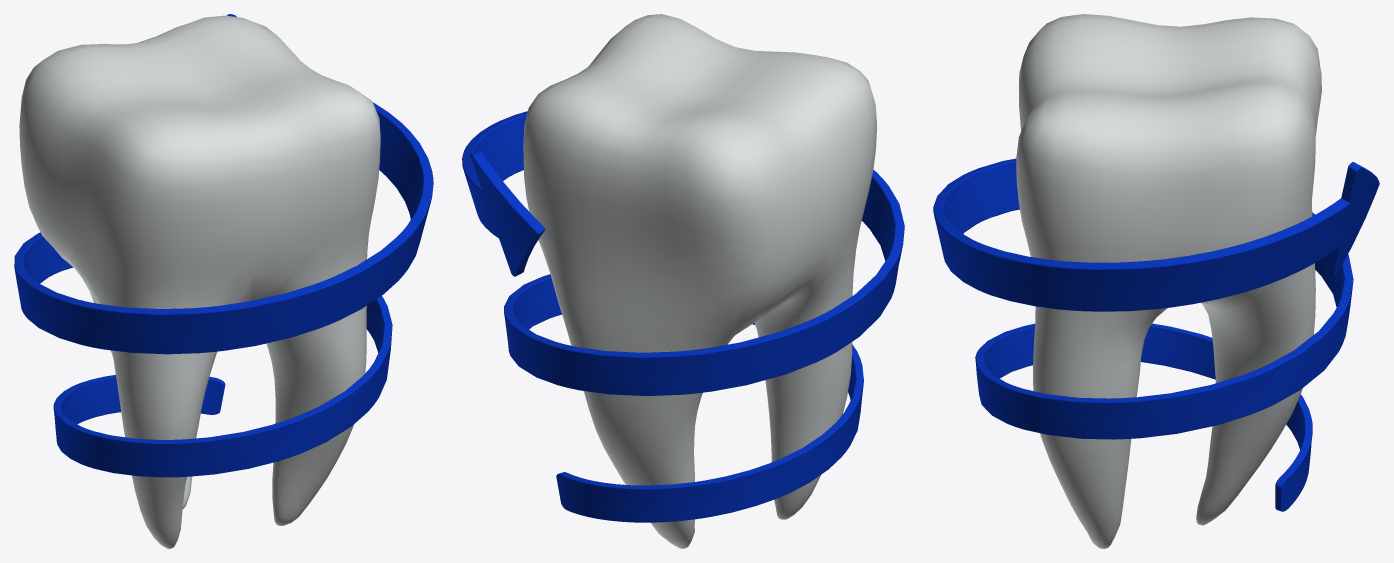
File: dental_protection.glb
3 renders of one model, left to right at view 1: azimuth 30°, elevation 25°; view 2: azimuth 150°, elevation 25°; view 3: azimuth 270°, elevation 25°, orthographic. The views are drawn at different scales.
Parts seen in each view (by area): view 1: Tooth, Arrow; view 2: Tooth, Arrow; view 3: Tooth, Arrow.
Boxes of the visible parts, x1,y1,x2,y2 form: Tooth: [19, 15, 380, 548]; Arrow: [14, 14, 433, 477]; Tooth: [523, 14, 877, 548]; Arrow: [462, 111, 904, 522]; Tooth: [1016, 14, 1321, 548]; Arrow: [933, 158, 1379, 511].
Bounding box in the file's own units: 5.71 × 6.67 × 5.78.
